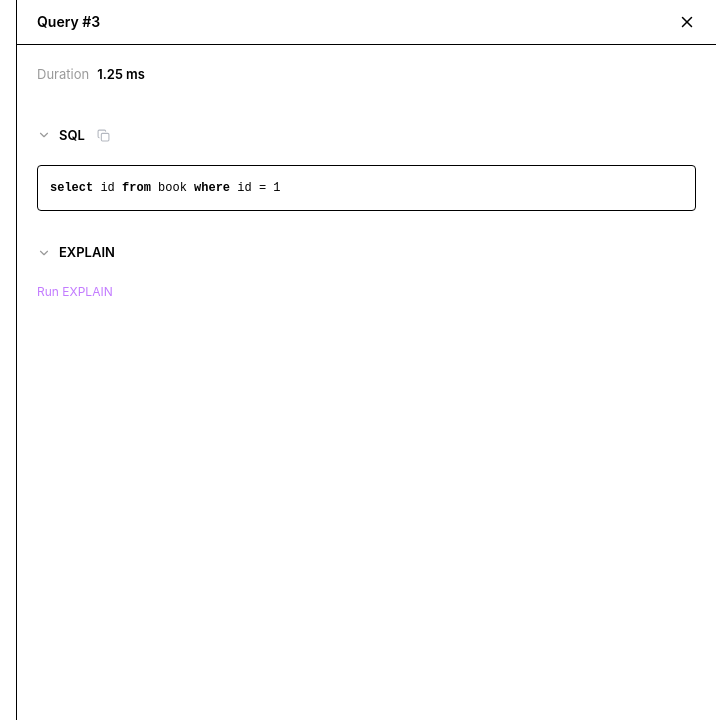
QueryDetail EXPLAIN failures and stale answers › shows the status when the server gives no plan and no reason
This screenshot has width=716, height=720.
Click the button "Run EXPLAIN" at (75, 292), box [37,282,113,300]
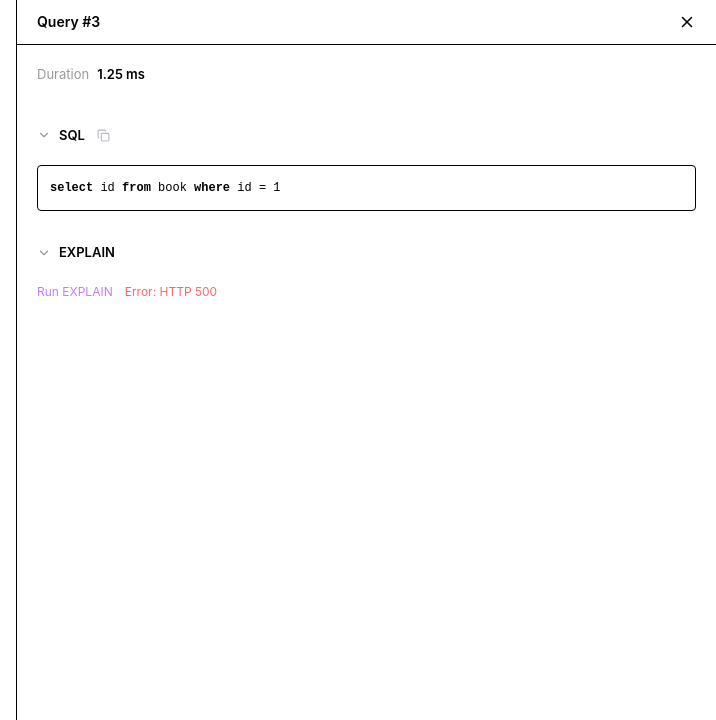
Expected: the text "Error: HTTP 500" is shown, [125,282,217,300]
